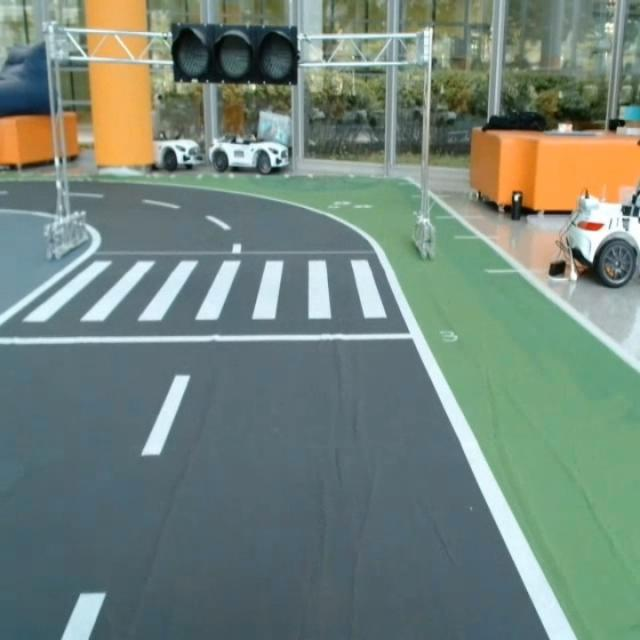traffic-light: (170, 21, 304, 88)
